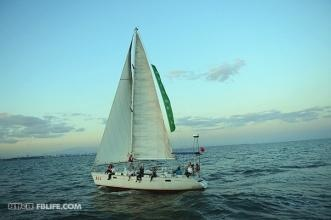fanchuan: (86, 28, 207, 189)
